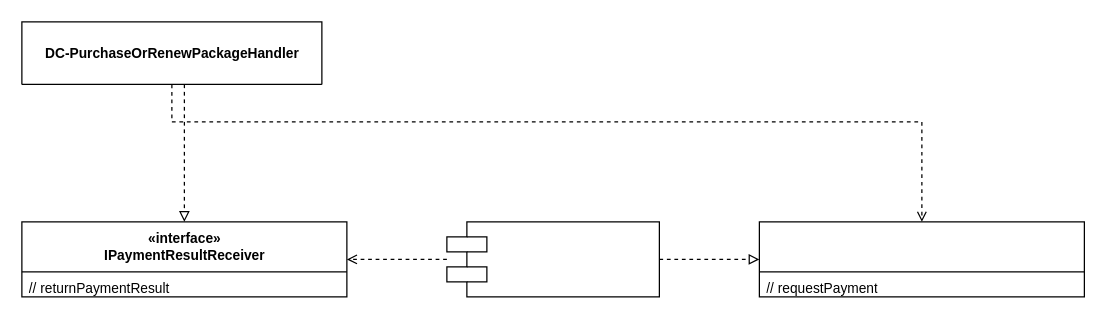
Image size: 1106x323. Some labels were removed from this diagram. Here are the shapes that lost their labels. From the top down, the box of each, then its label:
(446, 221, 659, 297): «subsystem» SS-01 OnlinePayment
(758, 221, 1084, 297): «interface» IPaymentGateway
